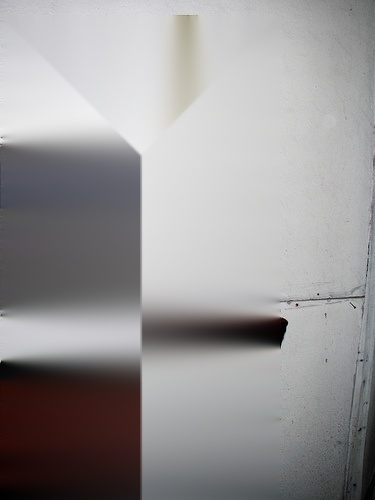bottle: (233, 317, 289, 405)
